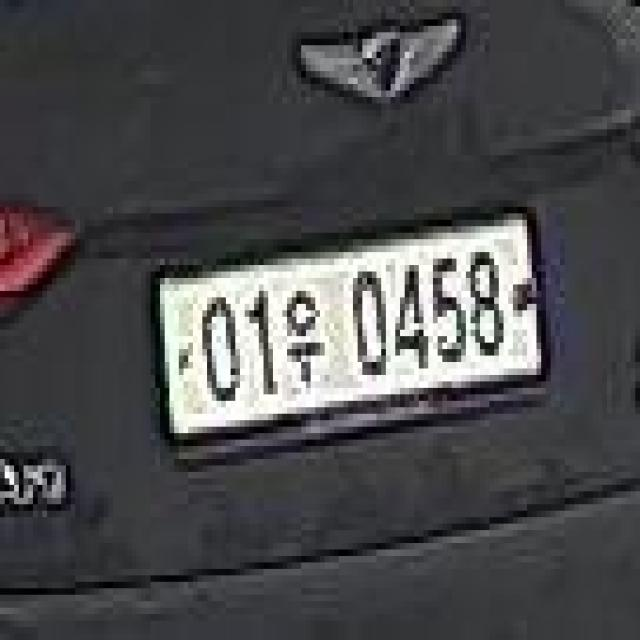illegal_plate: (154, 204, 546, 460)
